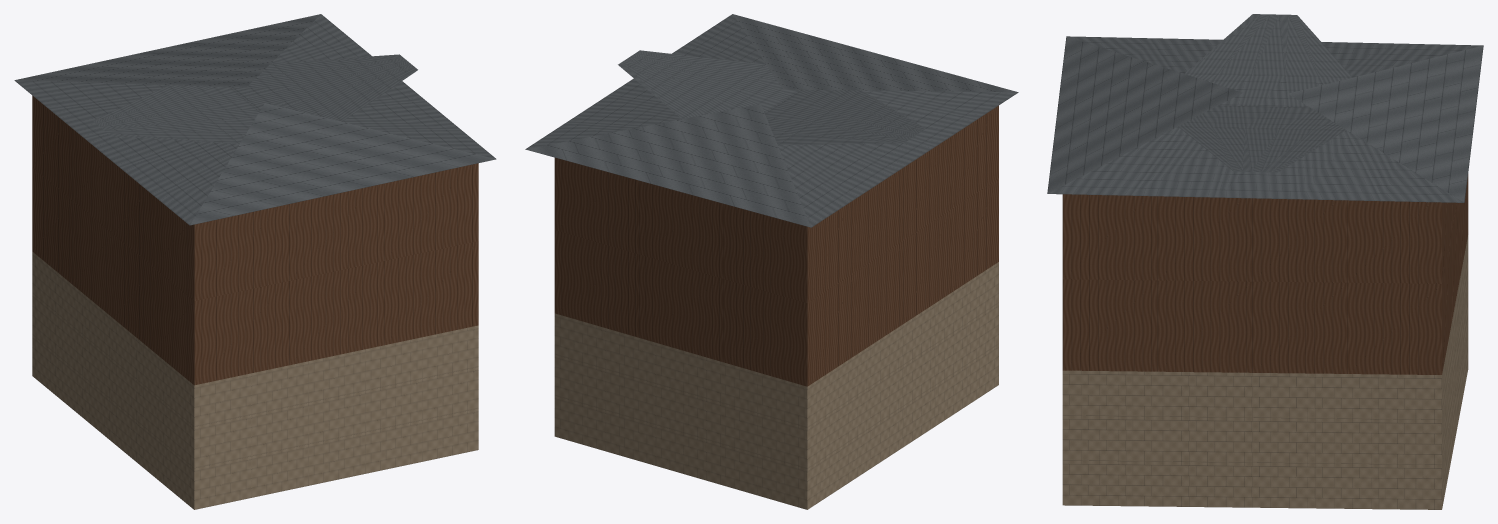
File: bld_c3_18_456.gltf
3 views of the same model, side by side, from view 1: azimuth 30°, elevation 25°; view 2: azimuth 150°, elevation 25°; view 3: azimuth 270°, elevation 25° (orthographic). The views are drawn at different scales.
Visible parts, largest first — view 1: bld_c3_18_456; view 2: bld_c3_18_456; view 3: bld_c3_18_456.
Boxes of the visible parts, x1,y1,x2,y2 form: bld_c3_18_456: [14, 14, 496, 509]; bld_c3_18_456: [525, 14, 1018, 509]; bld_c3_18_456: [1047, 14, 1483, 509].
Bounding box in the file's own units: 13.51 × 13 × 14.96.
3 materials, 3 textured.
